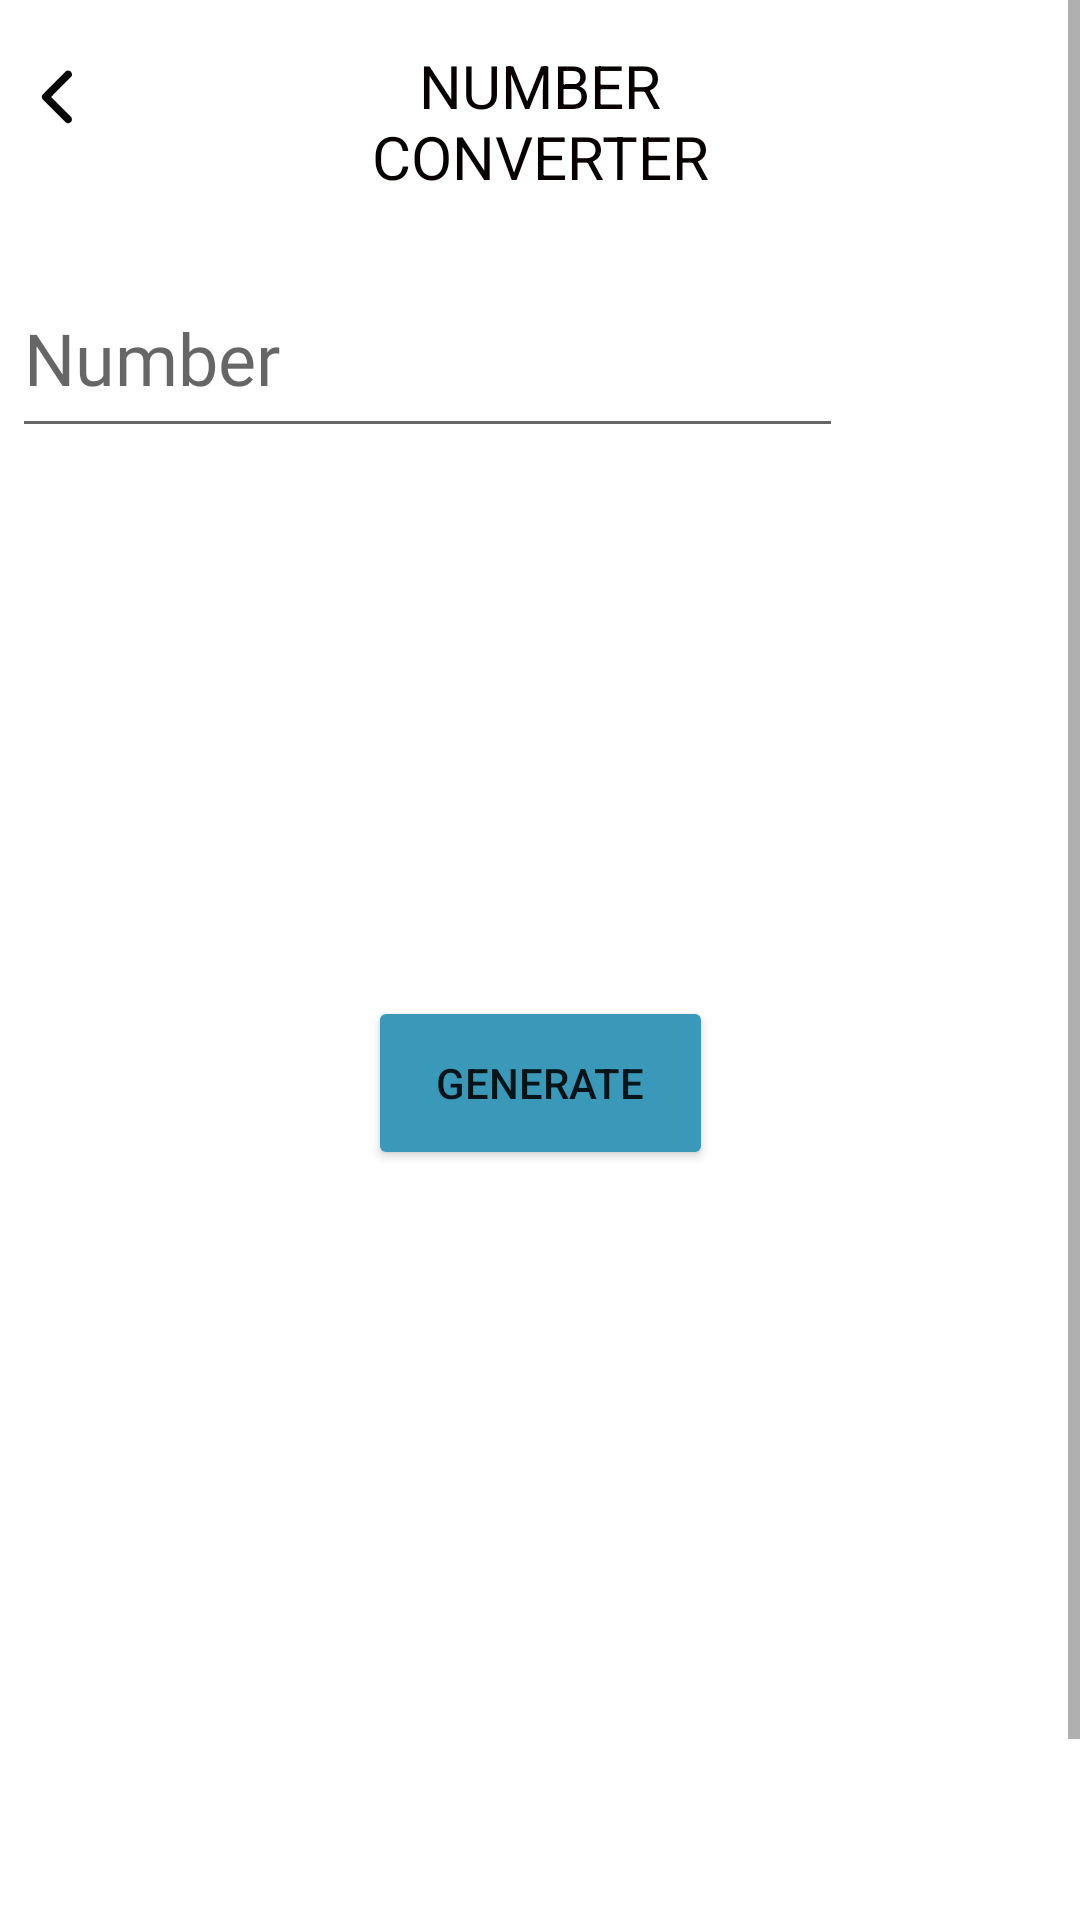

Icon bounding boxes for this 1080w x 1920h phone screenshot, format (x1, y1, x2, y2):
back: (41, 70, 72, 124)
